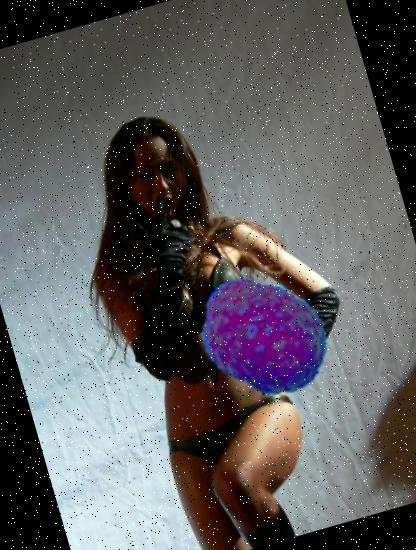Raspberry: (180, 251, 348, 418)
